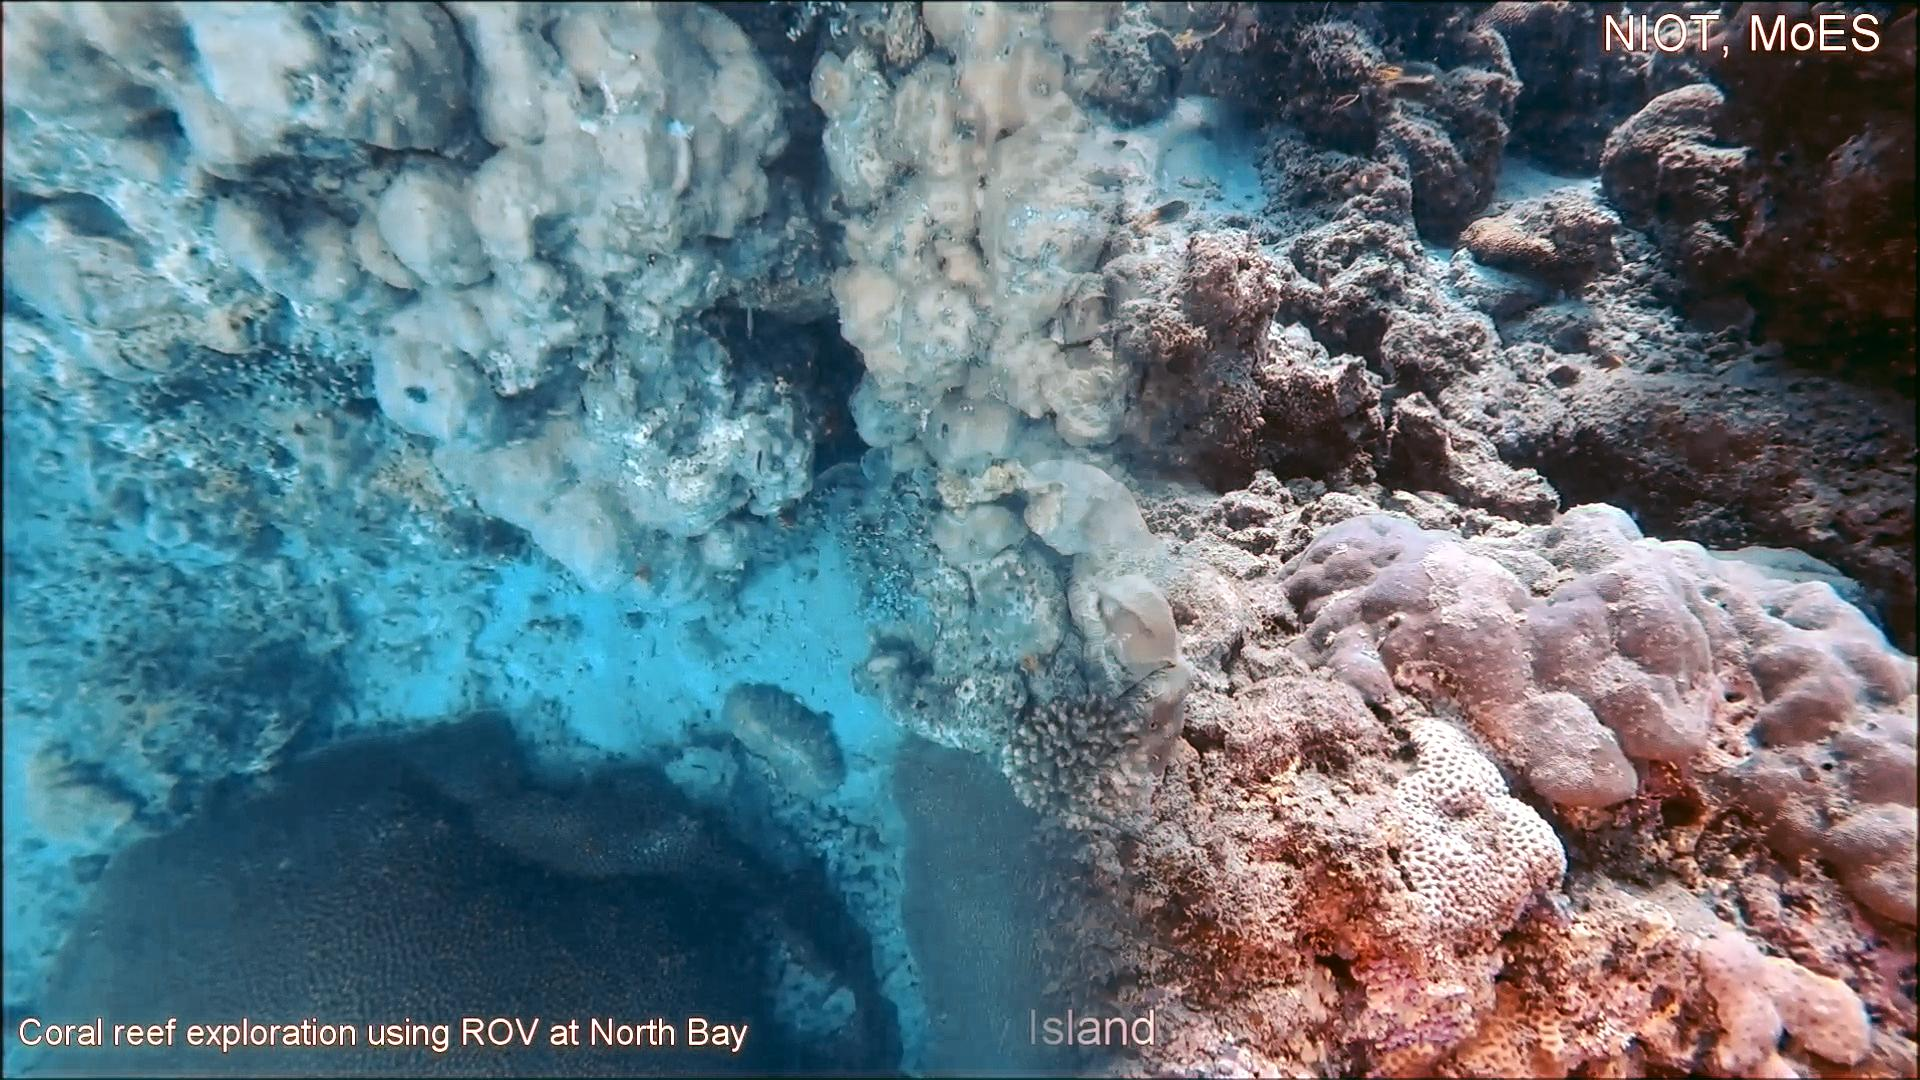Goniastrea-Goniastrea pectinata: (1374, 703, 1576, 955)
Porites-Porites pukoensis: (1606, 488, 1920, 934)
